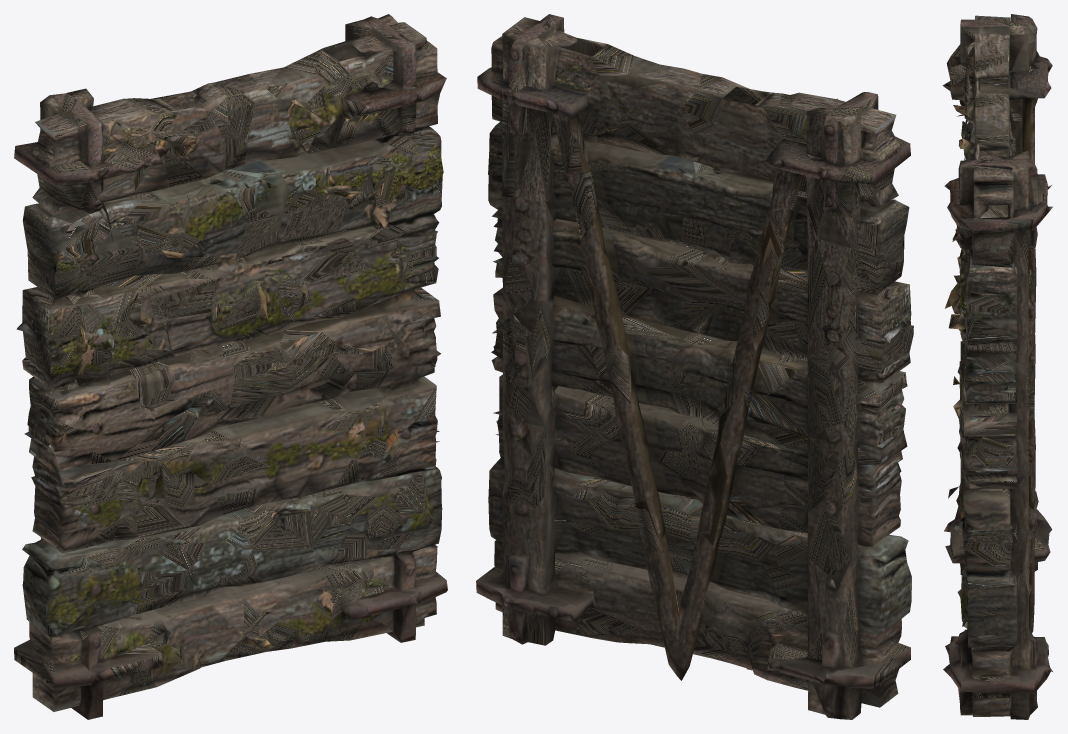
The model's file is shield.glb.
3 views of the same model, side by side, from view 1: azimuth 30°, elevation 25°; view 2: azimuth 150°, elevation 25°; view 3: azimuth 270°, elevation 25° (orthographic). The views are drawn at different scales.
Visible parts, largest first — view 1: tripo_node_b1bdf380-7580-4d9f-b361-8699b7b44e0c; view 2: tripo_node_b1bdf380-7580-4d9f-b361-8699b7b44e0c; view 3: tripo_node_b1bdf380-7580-4d9f-b361-8699b7b44e0c.
Boxes of the visible parts, <box> form: tripo_node_b1bdf380-7580-4d9f-b361-8699b7b44e0c: <box>14,14,447,719</box>; tripo_node_b1bdf380-7580-4d9f-b361-8699b7b44e0c: <box>476,14,913,719</box>; tripo_node_b1bdf380-7580-4d9f-b361-8699b7b44e0c: <box>942,14,1052,719</box>.
Size of the model in its own units: 0.7006 by 0.9979 by 0.182.
Materials: 1 (1 with a texture image).
